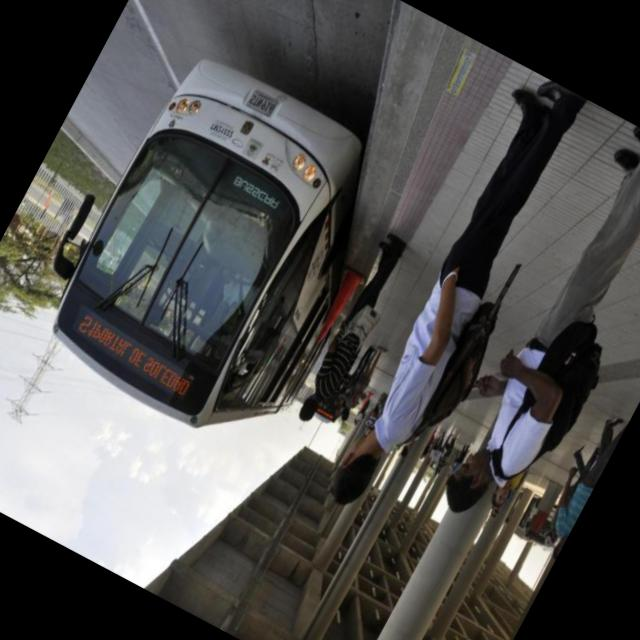bus: (9, 29, 431, 472)
